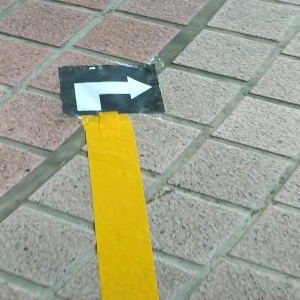right: (58, 63, 166, 115)
